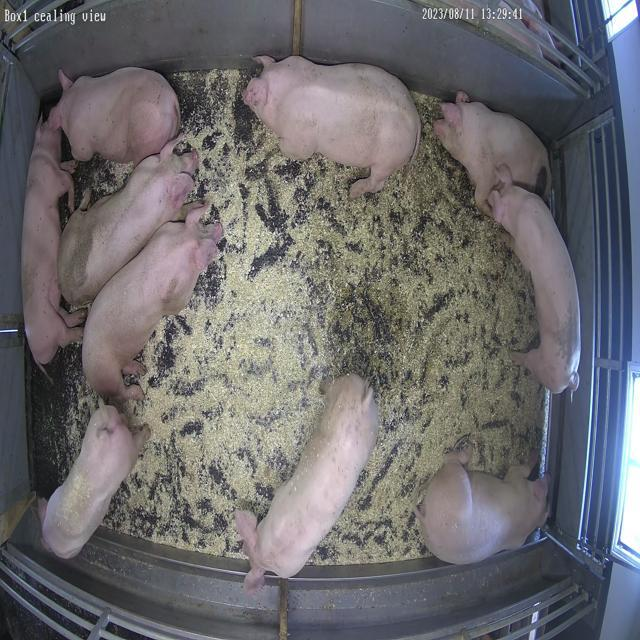Dirt: (323, 283, 419, 416)
Pig: (236, 376, 379, 594), (82, 206, 222, 402), (243, 55, 422, 198), (58, 138, 198, 306), (491, 184, 582, 394), (42, 406, 149, 560), (417, 449, 549, 566), (21, 121, 83, 366), (434, 91, 552, 214), (48, 67, 179, 164)
